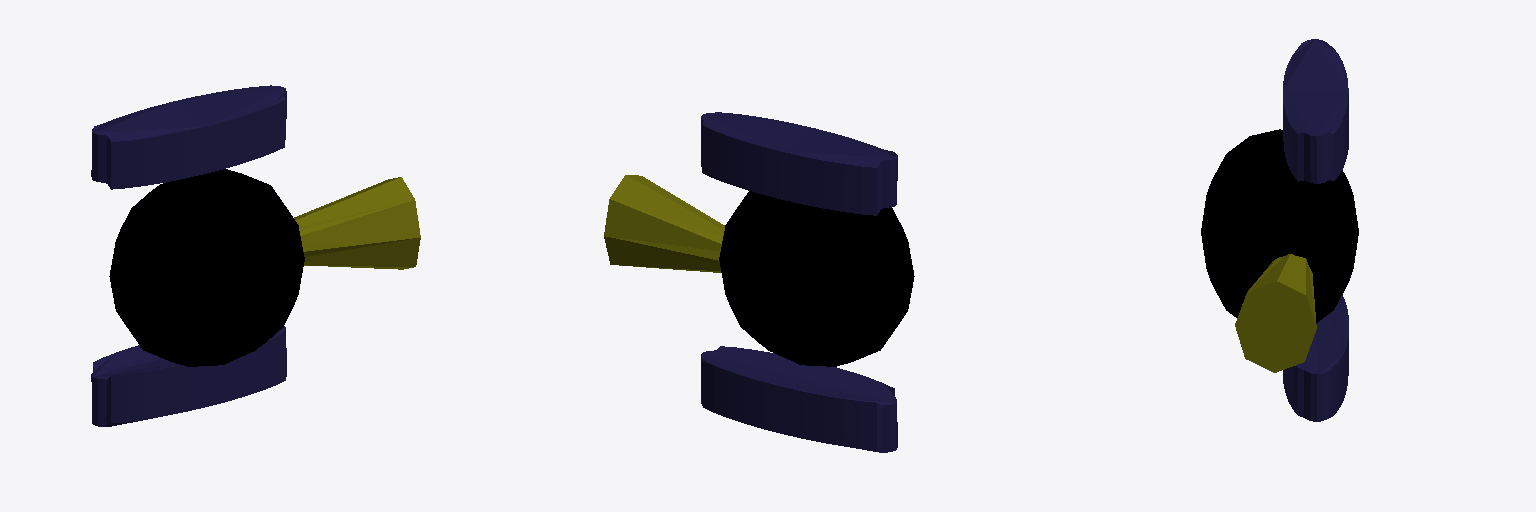
File: tank.obj
The picture shows the model from 3 angles: view 1: azimuth 30°, elevation 25°; view 2: azimuth 150°, elevation 25°; view 3: azimuth 270°, elevation 25°; orthographic projection.
Visible parts, largest first — view 1: cabine, chenilles, canon; view 2: chenilles, cabine, canon; view 3: cabine, chenilles, canon.
Part boxes in pixels (x1,y1,x2,y2): cabine: (109,169,304,366); chenilles: (91,85,286,426); canon: (294,177,420,269); chenilles: (701,112,897,452); cabine: (719,191,914,366); canon: (604,175,724,272); cabine: (1201,129,1358,322); chenilles: (1283,39,1348,421); canon: (1235,254,1316,372).
Size of the model in its own units: 2.78 by 2.66 by 1.31.